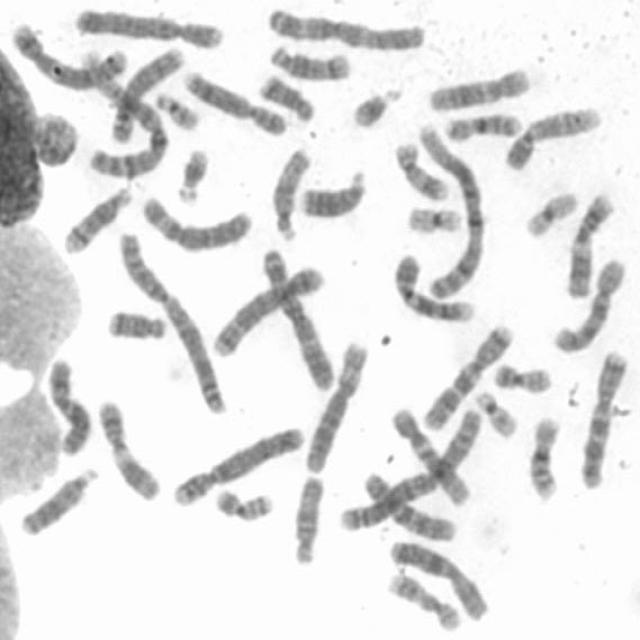A1: (413, 118, 486, 304), (75, 42, 170, 181)
A2: (113, 226, 230, 416), (334, 402, 485, 534)
A3: (258, 242, 335, 392), (262, 2, 429, 54)
B4: (168, 418, 309, 509), (71, 3, 224, 49)
B5: (207, 262, 327, 358), (6, 19, 129, 91)
C10: (548, 252, 629, 354), (360, 467, 458, 542)
C11: (93, 393, 163, 503), (562, 187, 616, 301)
C12: (386, 401, 472, 507), (425, 64, 531, 112)
C6: (300, 334, 370, 474), (135, 191, 255, 254)
C7: (418, 318, 516, 432), (576, 346, 630, 491)
C8: (106, 41, 186, 146), (178, 65, 289, 139)
C9: (500, 102, 603, 171), (389, 248, 476, 322)
D13: (17, 460, 102, 537), (294, 164, 368, 221)
D14: (58, 181, 135, 255), (266, 39, 353, 84)
D15: (268, 143, 314, 242), (288, 471, 326, 567)
E16: (523, 411, 564, 502), (441, 106, 523, 144)
E17: (382, 568, 462, 634), (390, 136, 450, 202)
E18: (255, 70, 316, 124), (102, 306, 169, 342)
F19: (522, 187, 579, 240), (404, 200, 463, 235)
F20: (209, 483, 277, 523), (490, 361, 552, 394)
G21: (347, 81, 405, 130), (172, 143, 212, 205)
G22: (471, 387, 520, 440), (151, 89, 200, 132)
X: (384, 535, 492, 622), (44, 353, 93, 458)
